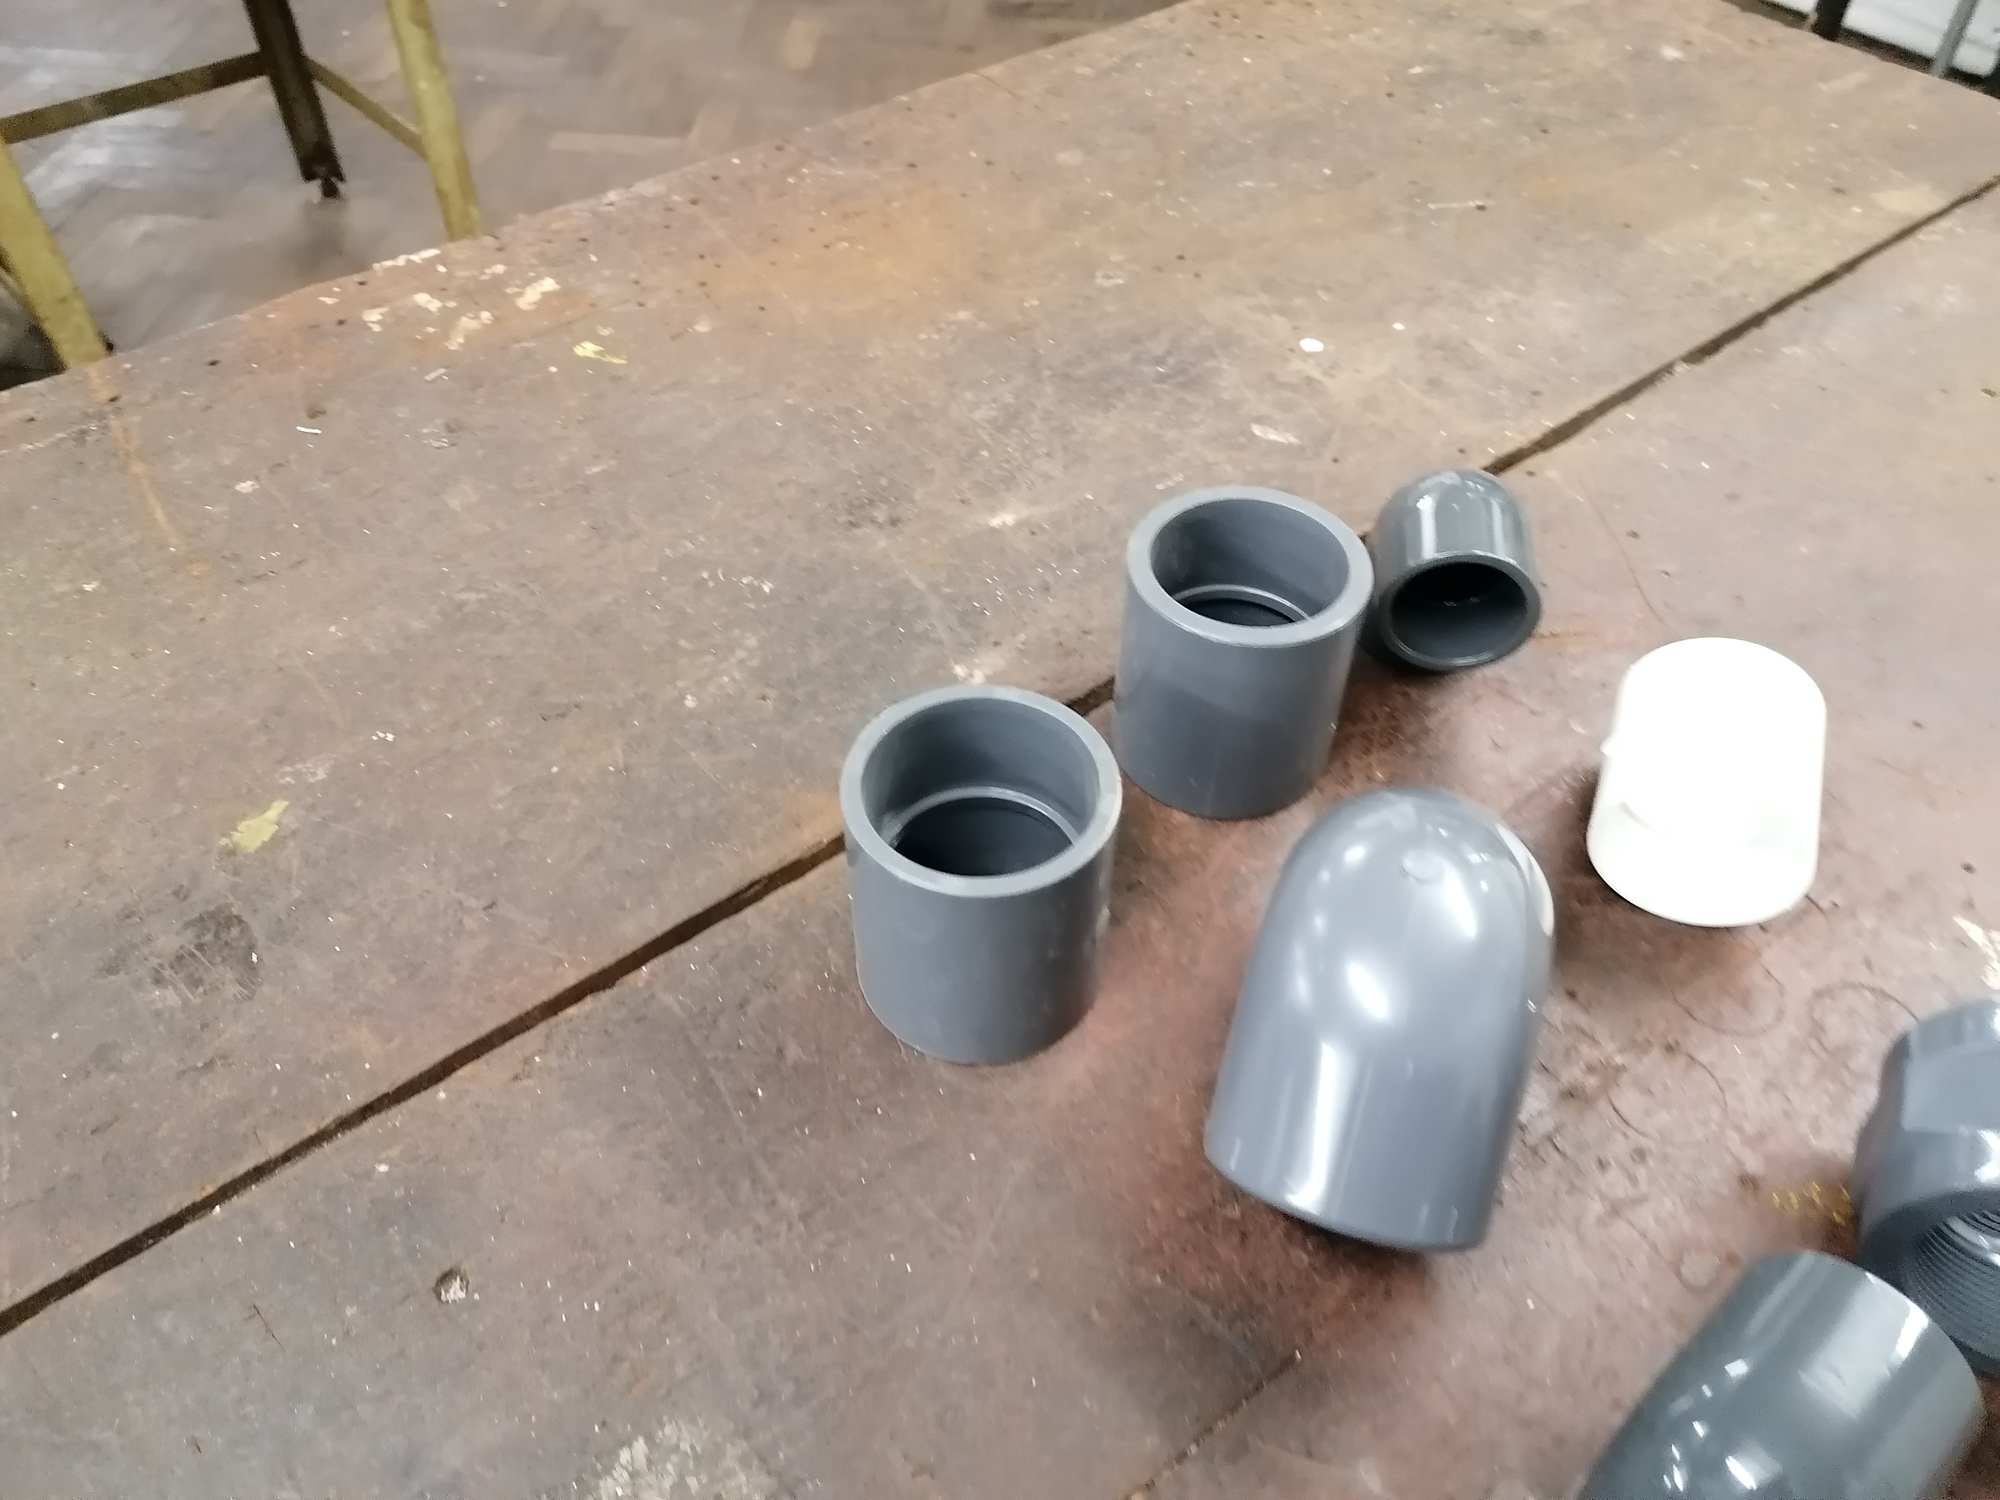nut: (1847, 991, 1998, 1387)
pipe: (1197, 774, 1562, 1249), (835, 685, 1126, 1068), (1557, 1245, 1984, 1498), (1112, 481, 1373, 816), (1580, 629, 1830, 930), (1369, 465, 1543, 676)
